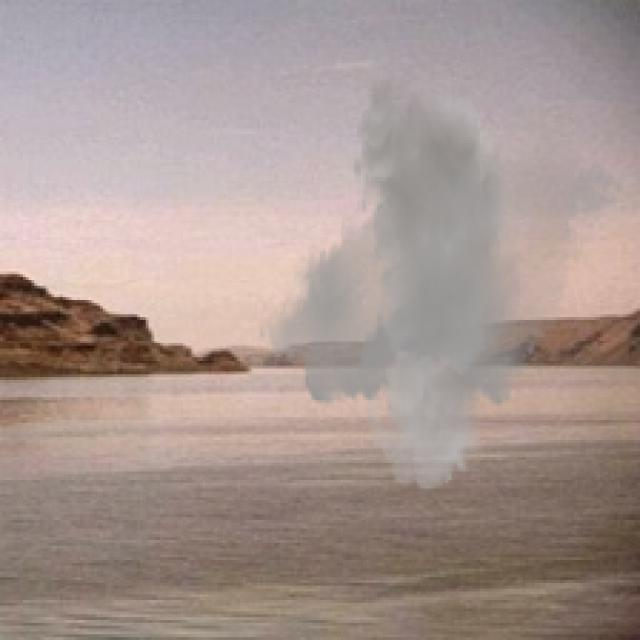Smoke: (257, 74, 626, 492)
